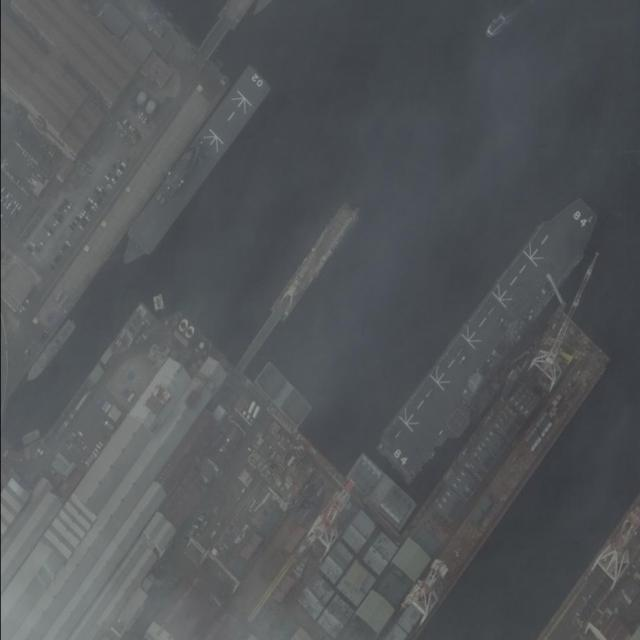Destroyer: (370, 192, 615, 478)
Dock: (231, 200, 361, 373)
Landing: (108, 61, 273, 270)
